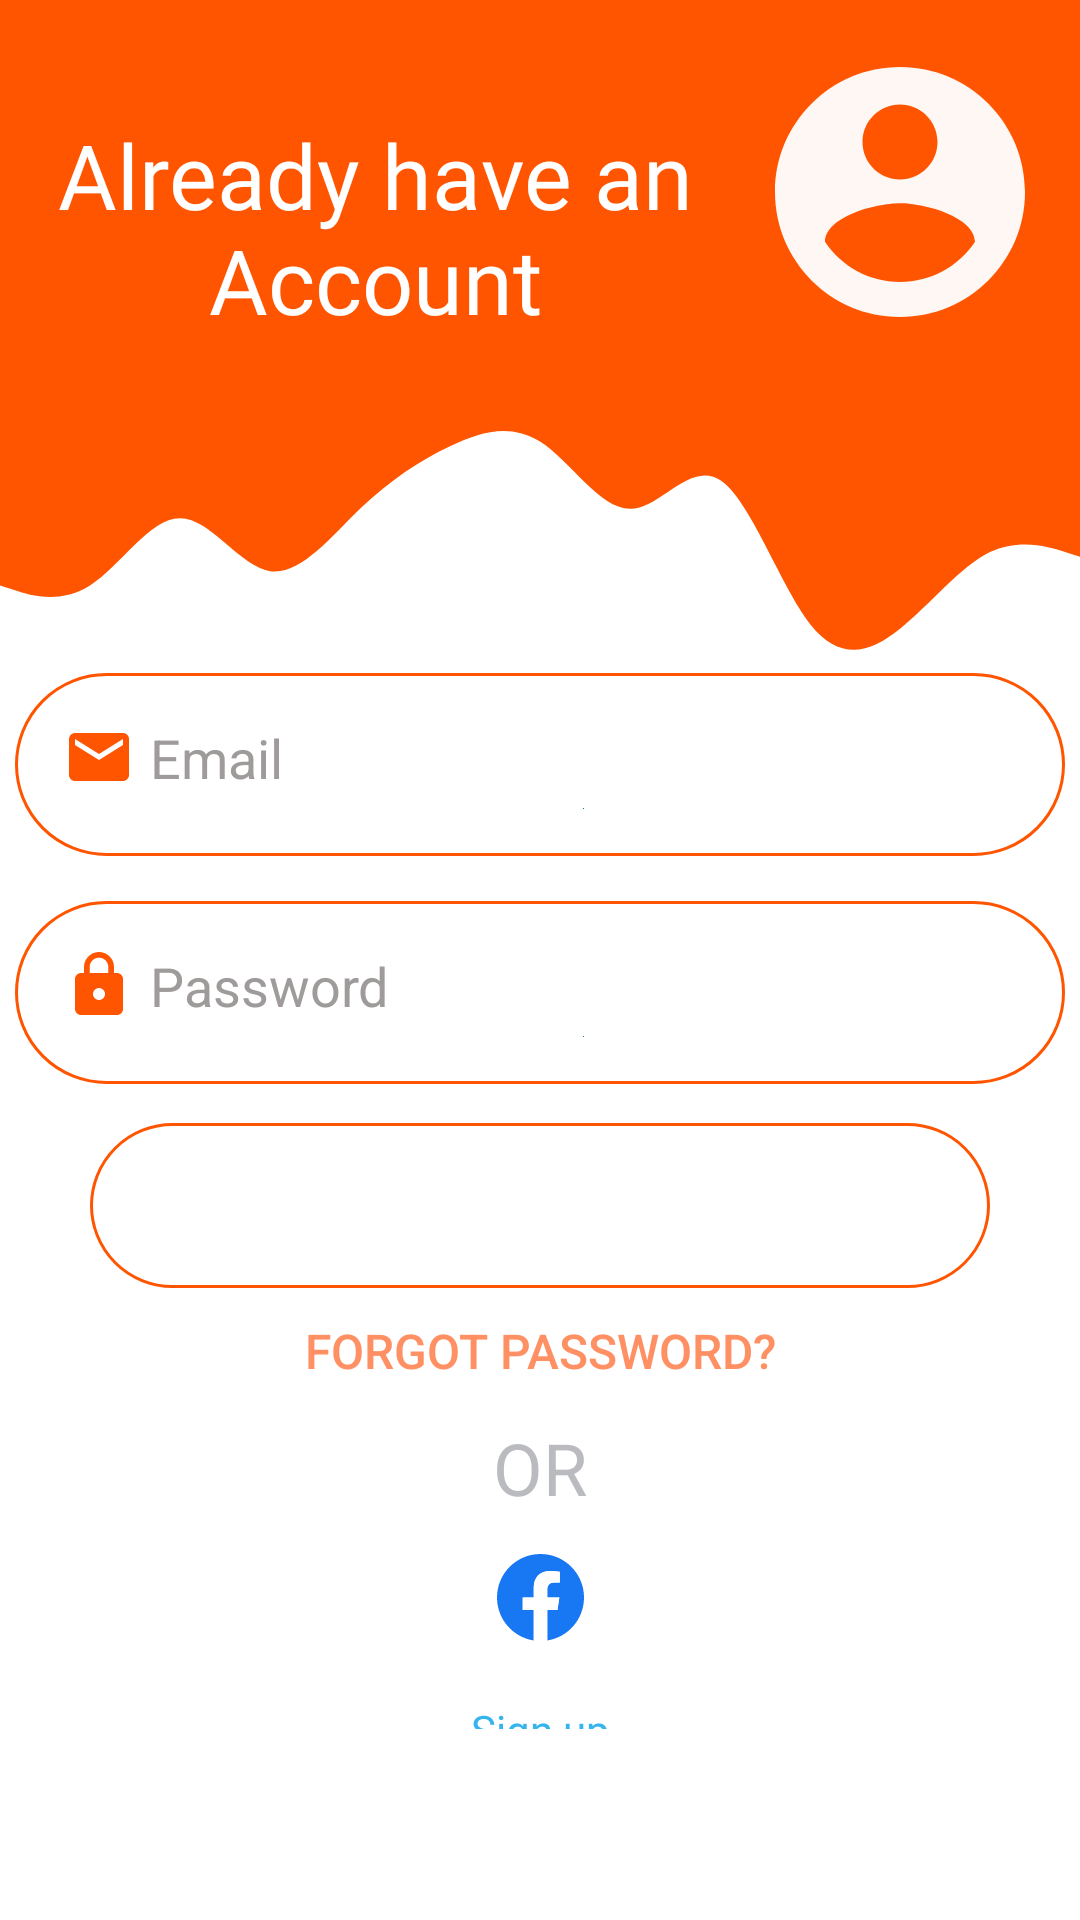

Screen size 1080px×1920px. Icon name, then its box in pixels as {"x1": x1, "y1": y1, "x2": x2, "y2": y2}:
loging: {"x1": 775, "y1": 67, "x2": 1025, "y2": 317}
